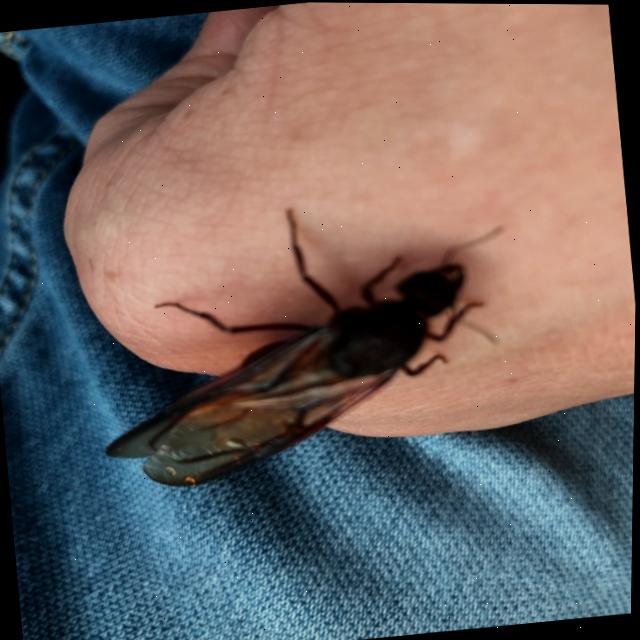Alive-Female-Alate: (82, 186, 531, 497)
